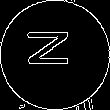N_E: (29, 34, 81, 76)
